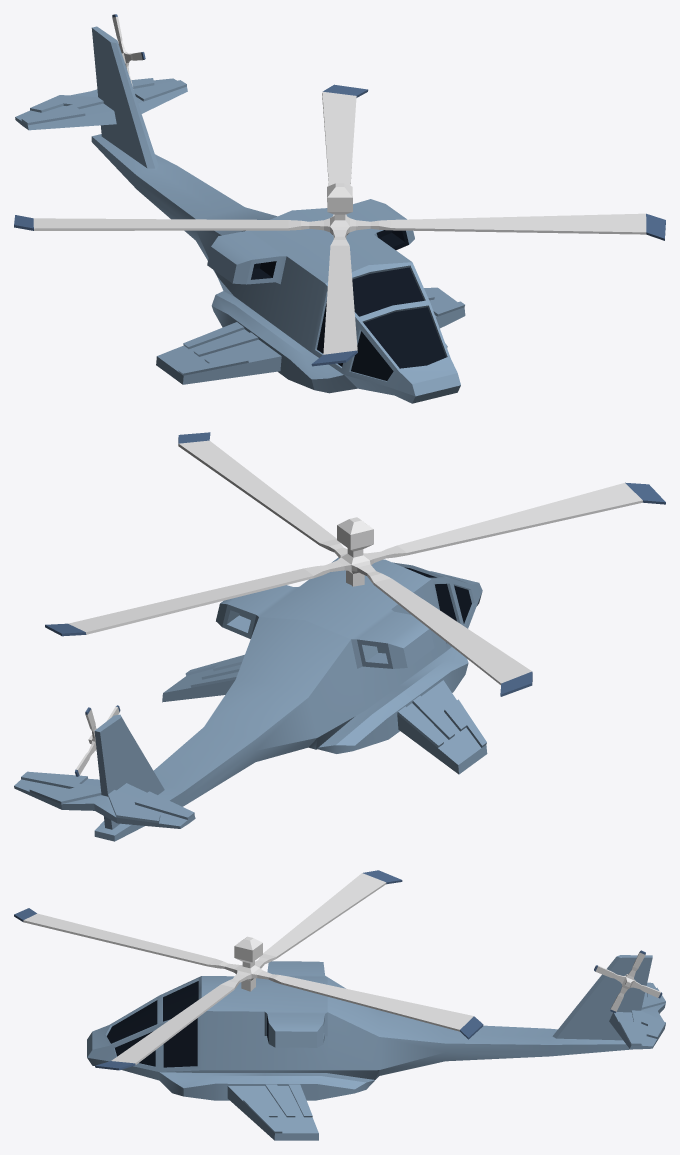
File: helicopter.fbx
3 views of the same model, one above another, from view 1: azimuth 30°, elevation 25°; view 2: azimuth 150°, elevation 25°; view 3: azimuth 270°, elevation 25° (orthographic). The views are drawn at different scales.
Visible parts, largest first — view 1: helicopter, Rotor; view 2: helicopter, Rotor; view 3: helicopter, Rotor, Tail Rotor.
Part boxes in pixels (<box>): helicopter: <box>15,26,465,403</box>; Rotor: <box>14,84,665,366</box>; helicopter: <box>14,557,487,841</box>; Rotor: <box>45,432,665,696</box>; helicopter: <box>87,955,665,1140</box>; Rotor: <box>14,870,483,1070</box>; Tail Rotor: <box>594,950,662,1012</box>.
Bounding box in the file's own units: 9.73 × 3.32 × 13.51.
